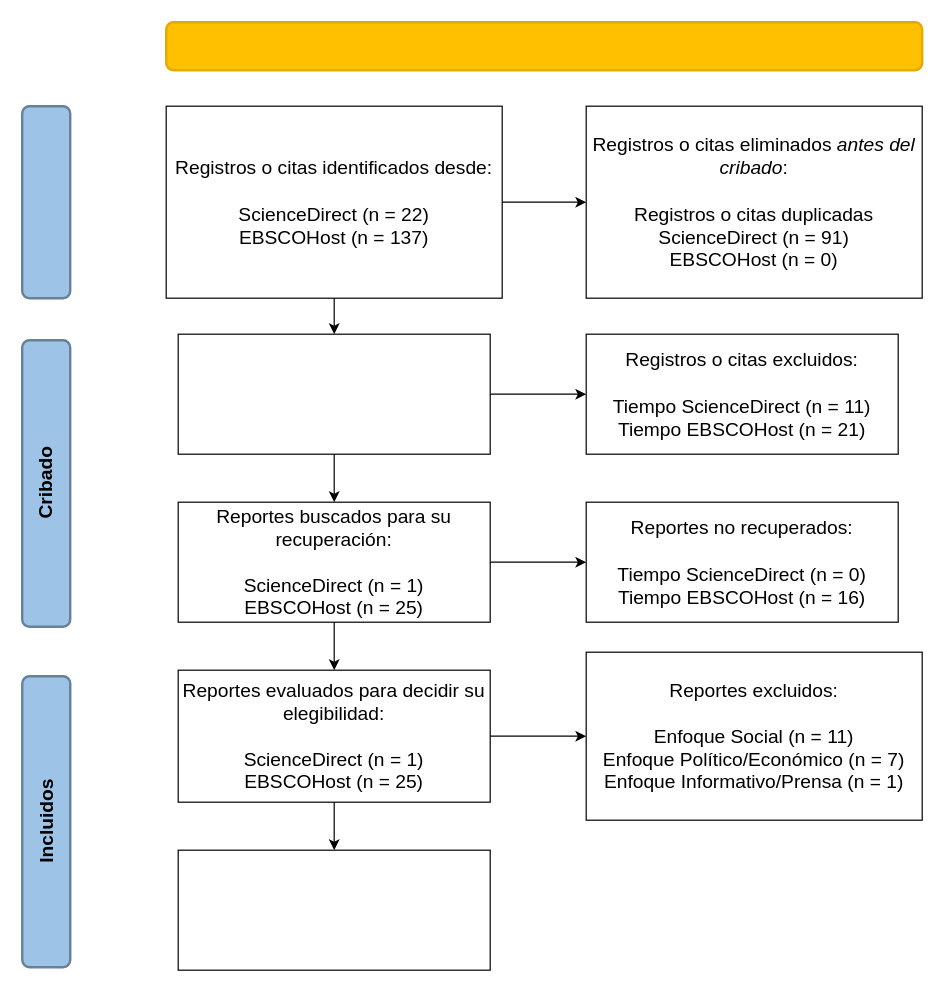
This 943x991 diagram has some shape labels left out. Here are the shapes that lost their labels. From the top down, the centre of each, then its label:
At [543,45]: "Identificación de nuevos estudios a través de las bases de datos y registros".
At [45,201]: "Identificación".
At [333,393]: "R egistros o citas cribados: ScienceDirect (n = 22) EBSCOHost (n = 46)".
At [333,909]: "Publicaciones incluidas en la investi gación: (n = 11)".
